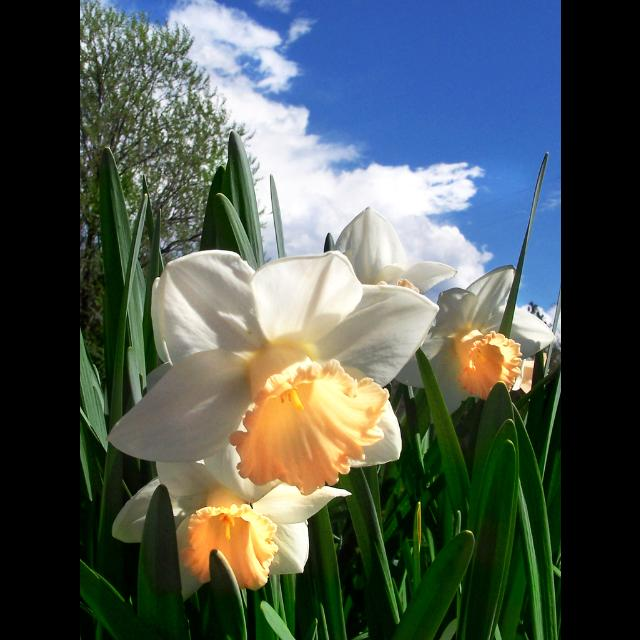Flower: (108, 249, 438, 499), (111, 444, 349, 604), (395, 264, 555, 416), (333, 204, 453, 383)
